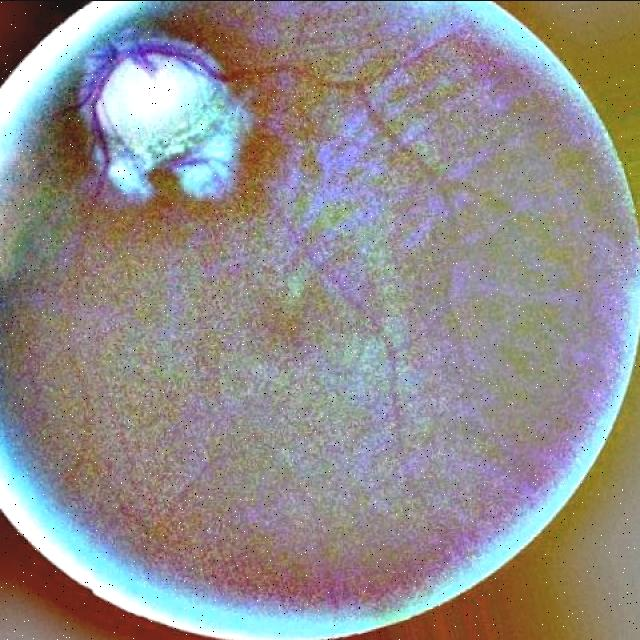Nerves: (228, 64, 366, 94)
Optic Disk: (80, 28, 251, 199)
